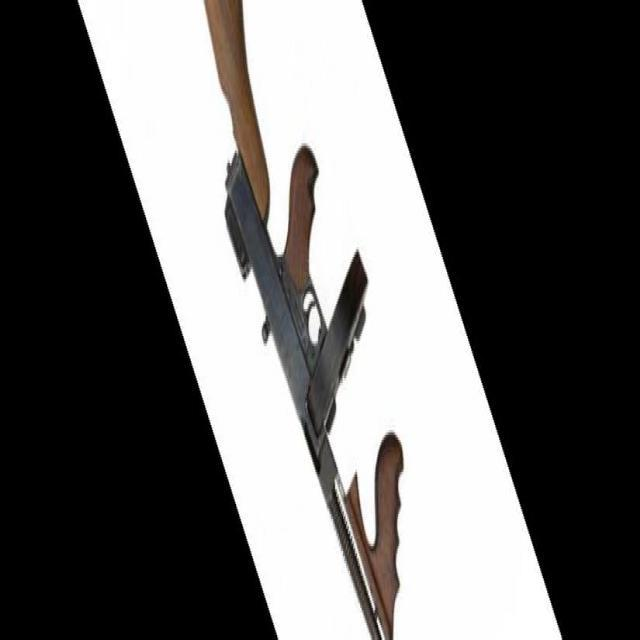weapon: (205, 0, 405, 640)
